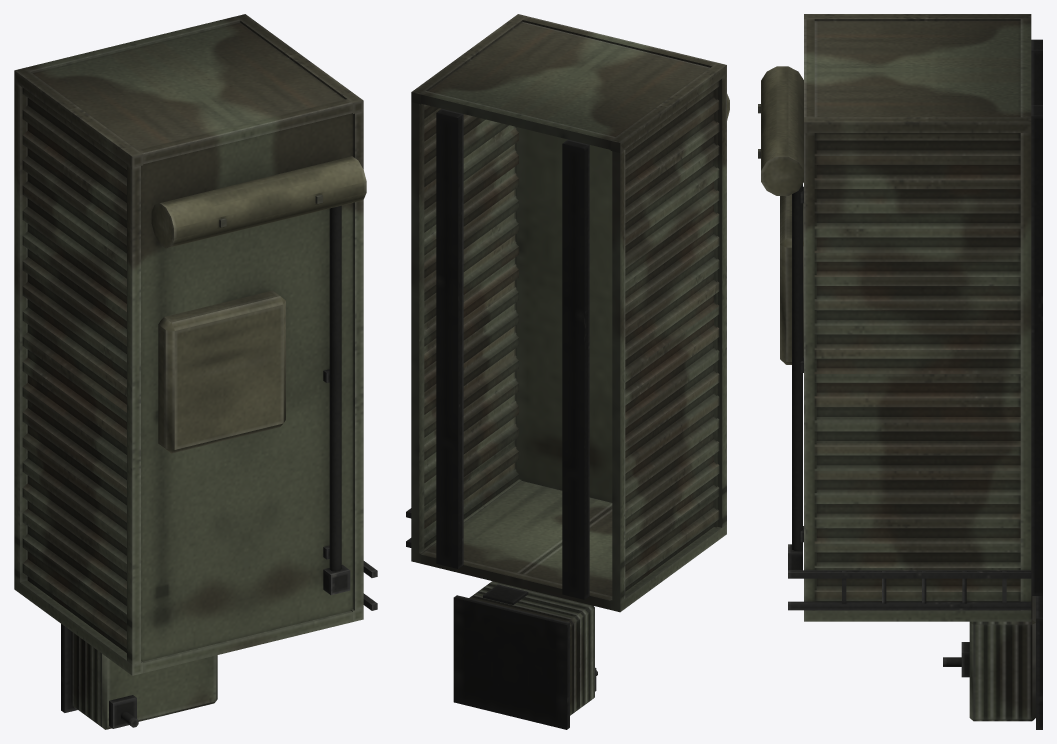
Rendered from hemtt_fob_module_pbr.glb.
3 renders of one model, left to right at view 1: azimuth 30°, elevation 25°; view 2: azimuth 150°, elevation 25°; view 3: azimuth 270°, elevation 25°, orthographic. The views are drawn at different scales.
Parts seen in each view (by area): view 1: hemtt_fob_module_pbr; view 2: hemtt_fob_module_pbr; view 3: hemtt_fob_module_pbr.
Boxes of the visible parts, bbox=[...] form: hemtt_fob_module_pbr: bbox=[14, 14, 377, 729]; hemtt_fob_module_pbr: bbox=[406, 14, 729, 729]; hemtt_fob_module_pbr: bbox=[758, 14, 1042, 729].
Size of the model in its own units: 2.49 by 6.6 by 2.69.
Materials: 1 (1 with a texture image).
